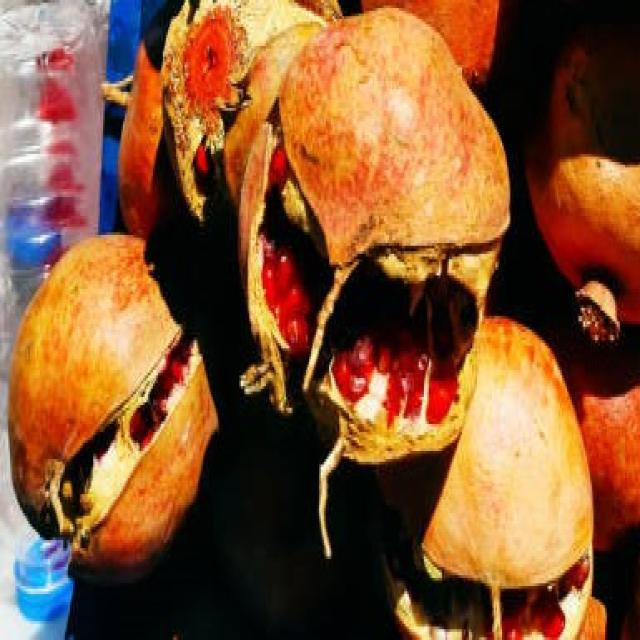overripe: (233, 11, 515, 472), (11, 230, 223, 580)
